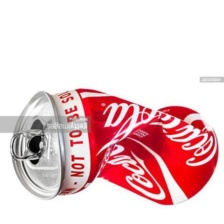can: (1, 80, 220, 217)
